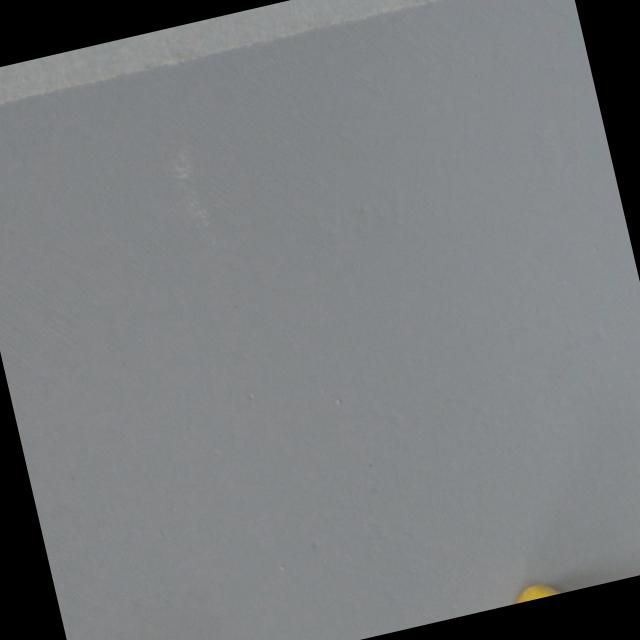no_canjicado: (490, 569, 595, 608)
